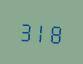eight: (49, 20, 63, 45)
one: (34, 19, 48, 44)
three: (18, 18, 32, 43)
